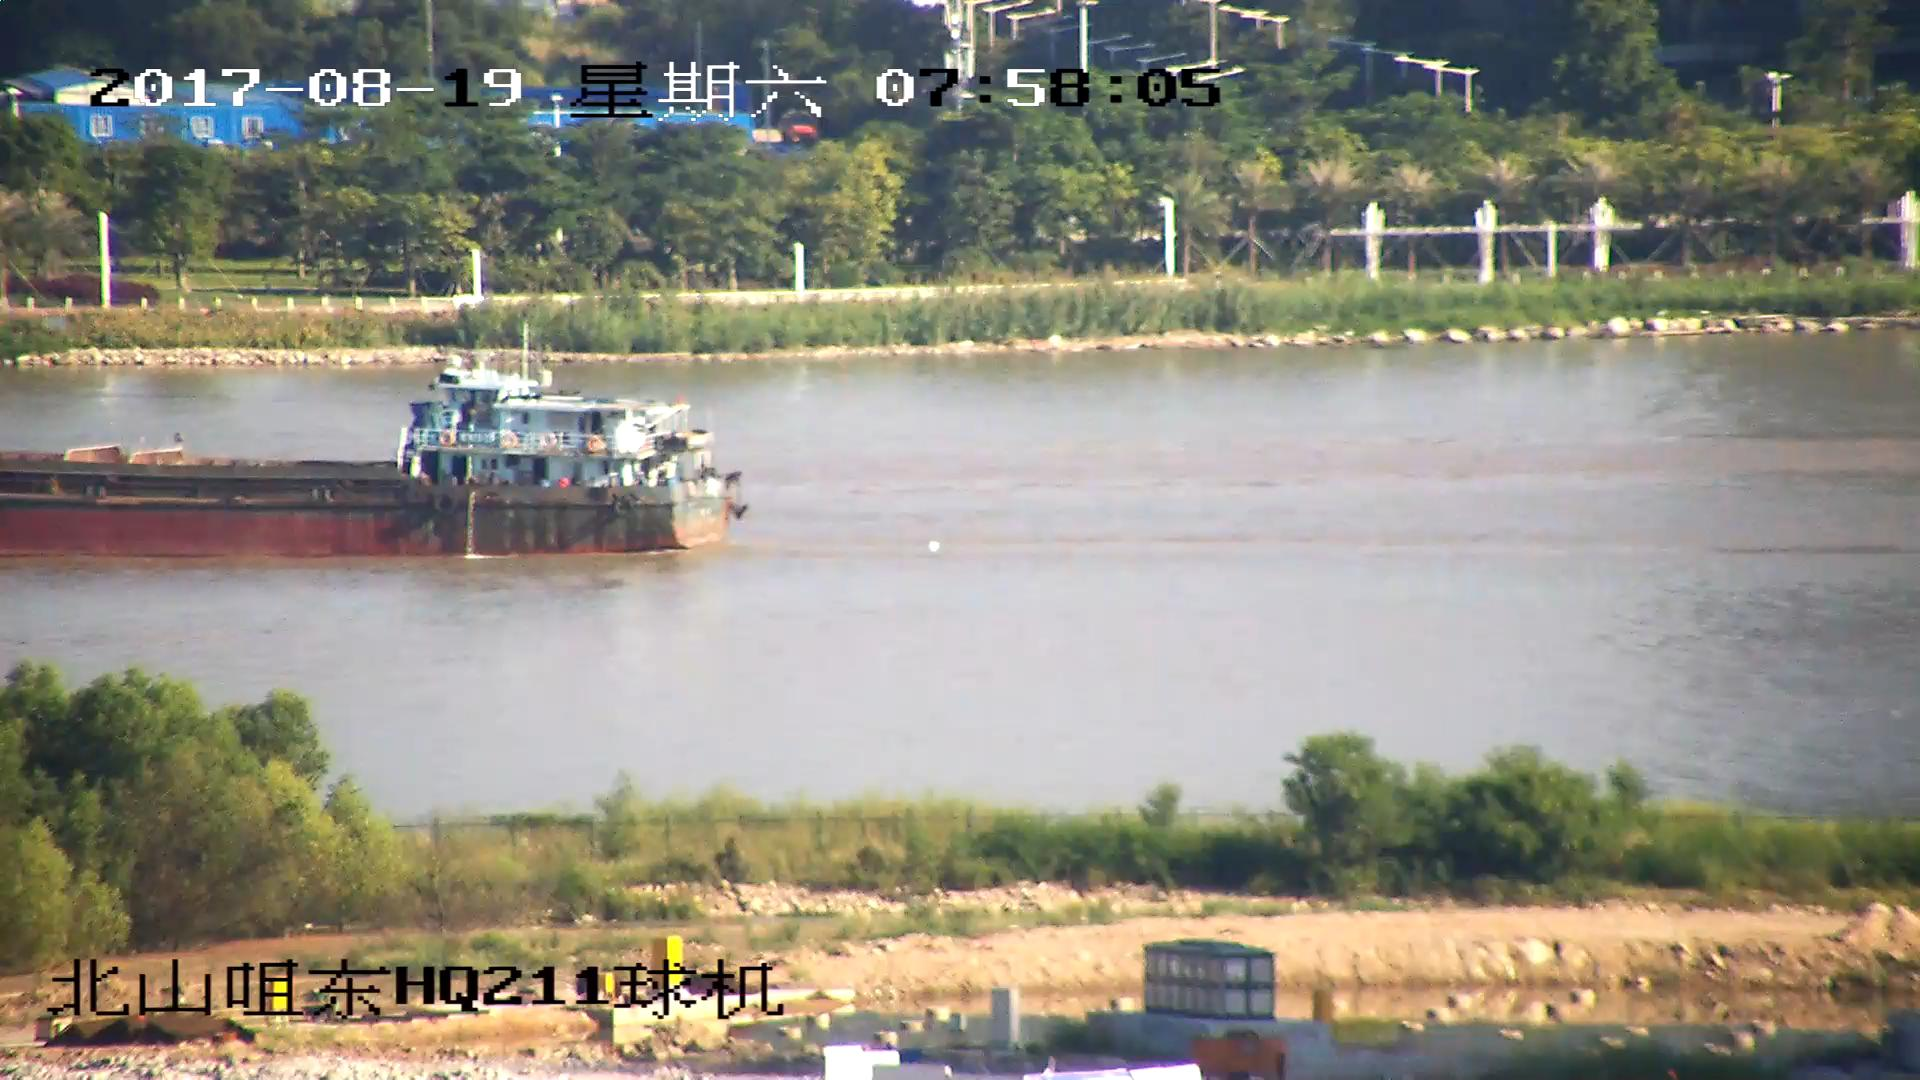bulk cargo carrier: (1, 351, 742, 555)
